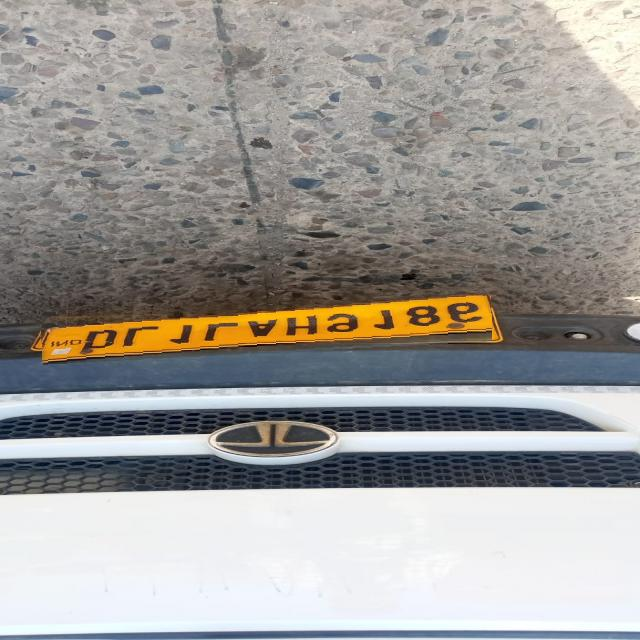License-plate: (41, 298, 492, 359)
